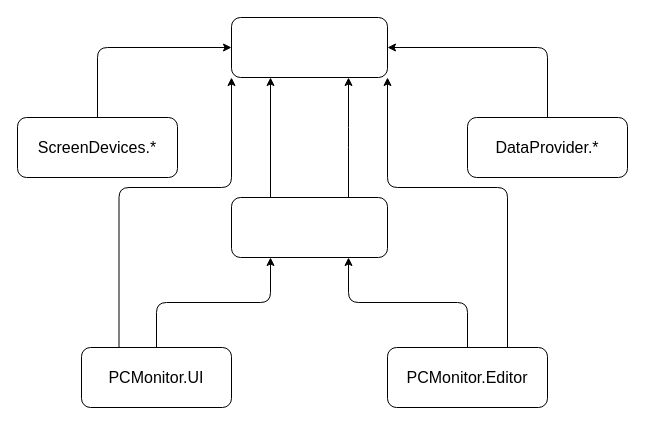
Some shapes in this 645 by 425 pixel diagram are drawn without their labels. Here are the shapes that lost their labels. From the top down, the centre of each, then its label:
point (309, 47): PCMonitor.Basic
point (309, 227): PCMonitor
